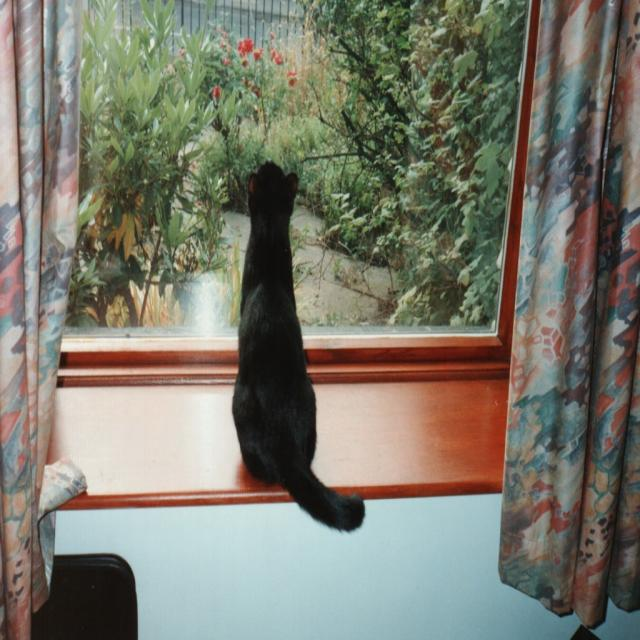Cat: (230, 160, 367, 532)
